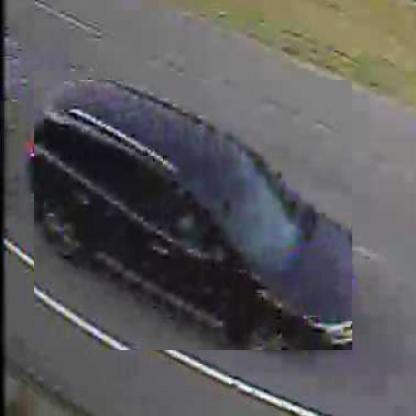car: (35, 81, 354, 352)
